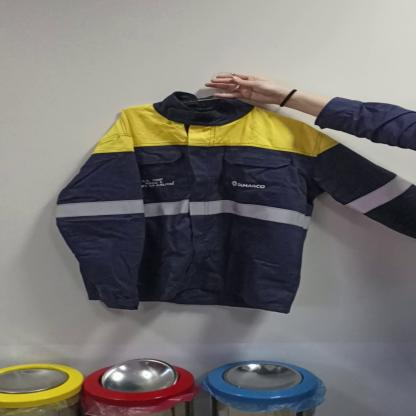C_eletrica: (55, 92, 416, 318)
